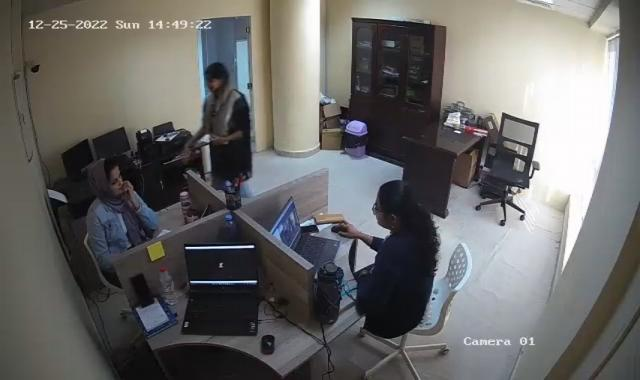no_hairnet: (372, 180, 415, 226), (85, 158, 123, 199), (204, 60, 227, 92)
